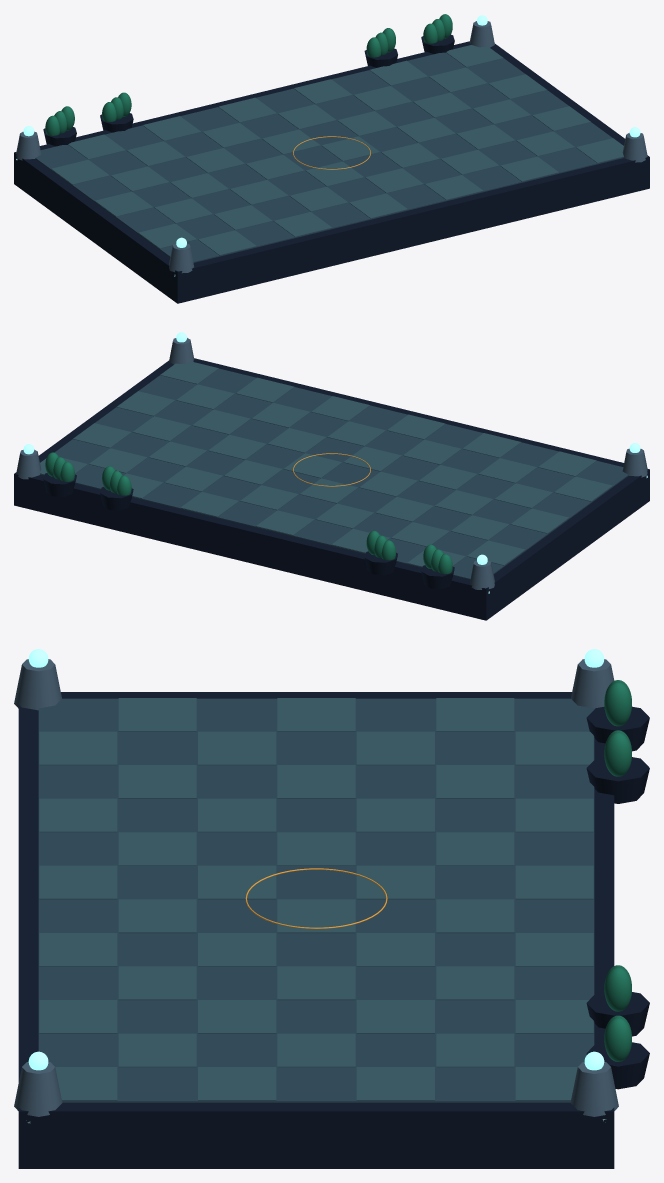
Rendered from arena.glb.
3 views of the same model, one above another, from view 1: azimuth 30°, elevation 25°; view 2: azimuth 150°, elevation 25°; view 3: azimuth 270°, elevation 25° (orthographic). The views are drawn at different scales.
Visible parts, largest first — view 1: Surface, FloatingFoundation, Tile-9_-2, Tile3_-2, Tile3_6, Tile7_-2, Tile-9_2, Tile-7_0, Tile-5_-2, Tile-5_2, Tile-5_6, Tile-1_-6 (+36 smaller); view 2: Surface, FloatingFoundation, Tile-11_4, Tile-3_0, Tile-1_-6, Tile1_-4, Tile-11_0, Tile-5_-2, Tile-3_4, Tile1_4, Tile5_0, Tile7_-2 (+38 smaller); view 3: Surface, FloatingFoundation, Tile5_0, Tile9_0, Tile-1_-6, Tile-1_6, Tile1_-4, Tile1_4, Tile5_-4, Tile5_4, Tile-9_-2, Tile-9_2 (+44 smaller).
Part boxes in pixels (bbox=[...]): Surface: bbox=[35, 52, 623, 262]; FloatingFoundation: bbox=[14, 41, 649, 303]; Tile-9_-2: bbox=[110, 166, 169, 191]; Tile3_-2: bbox=[337, 111, 395, 136]; Tile3_6: bbox=[424, 175, 483, 199]; Tile7_-2: bbox=[413, 92, 471, 117]; Tile-9_2: bbox=[154, 198, 212, 223]; Tile-7_0: bbox=[170, 173, 228, 198]; Tile-5_-2: bbox=[186, 148, 244, 172]; Tile-5_2: bbox=[230, 180, 288, 204]; Tile-5_6: bbox=[273, 212, 332, 236]; Tile-1_-6: bbox=[218, 97, 276, 122]; Surface: bbox=[40, 368, 628, 579]; FloatingFoundation: bbox=[14, 358, 649, 620]; Tile-11_4: bbox=[554, 476, 612, 501]; Tile-3_0: bbox=[359, 471, 417, 496]; Tile-1_-6: bbox=[256, 510, 314, 535]; Tile1_-4: bbox=[240, 485, 298, 510]; Tile-11_0: bbox=[510, 508, 568, 533]; Tile-5_-2: bbox=[375, 497, 433, 521]; Tile-3_4: bbox=[403, 439, 461, 464]; Tile1_4: bbox=[327, 421, 385, 446]; Tile5_0: bbox=[208, 435, 266, 459]; Tile7_-2: bbox=[148, 441, 206, 466]; Surface: bbox=[38, 698, 594, 1102]; FloatingFoundation: bbox=[18, 692, 614, 1168]; Tile5_0: bbox=[277, 966, 355, 1000]; Tile9_0: bbox=[277, 1033, 355, 1067]; Tile-1_-6: bbox=[515, 865, 593, 899]; Tile-1_6: bbox=[39, 865, 117, 899]; Tile1_-4: bbox=[436, 899, 514, 933]; Tile1_4: bbox=[118, 899, 196, 933]; Tile5_-4: bbox=[436, 966, 514, 1000]; Tile5_4: bbox=[118, 966, 196, 1000]; Tile-9_-2: bbox=[356, 731, 434, 765]; Tile-9_2: bbox=[198, 731, 276, 765].
Bounding box in the file's own units: 25.24 × 3.2 × 16.02.
